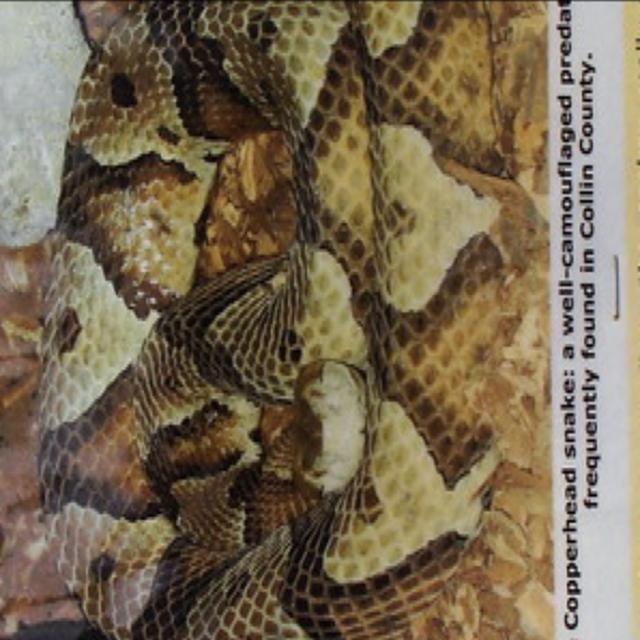Snake: (28, 0, 539, 640)
